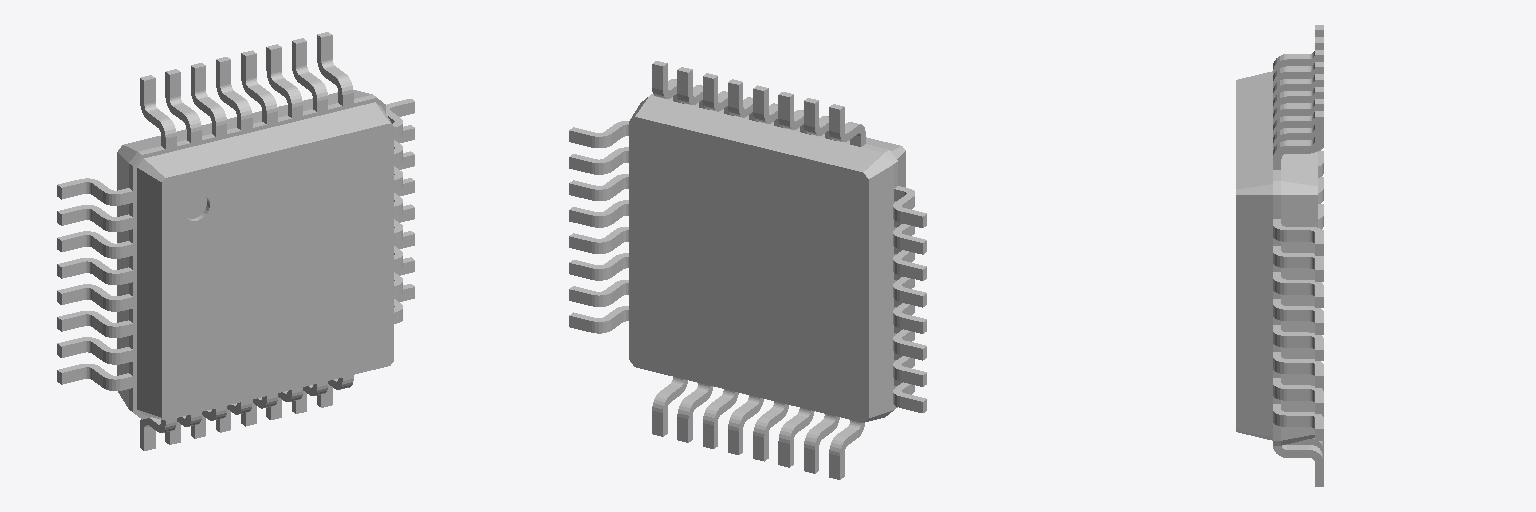
Rendered from LQFP-32_5x5mm_P0.obj.
3 renders of one model, left to right at view 1: azimuth 30°, elevation 25°; view 2: azimuth 150°, elevation 25°; view 3: azimuth 270°, elevation 25°, orthographic.
Visible parts, largest first — view 1: Body1; view 2: Body1; view 3: Body1.
Boxes of the visible parts, x1=… form: Body1: x1=57, y1=32, x2=414, y2=450; Body1: x1=569, y1=61, x2=926, y2=479; Body1: x1=1236, y1=25, x2=1323, y2=486.
Bounding box in the file's own units: 0.7 × 0.7 × 0.15.